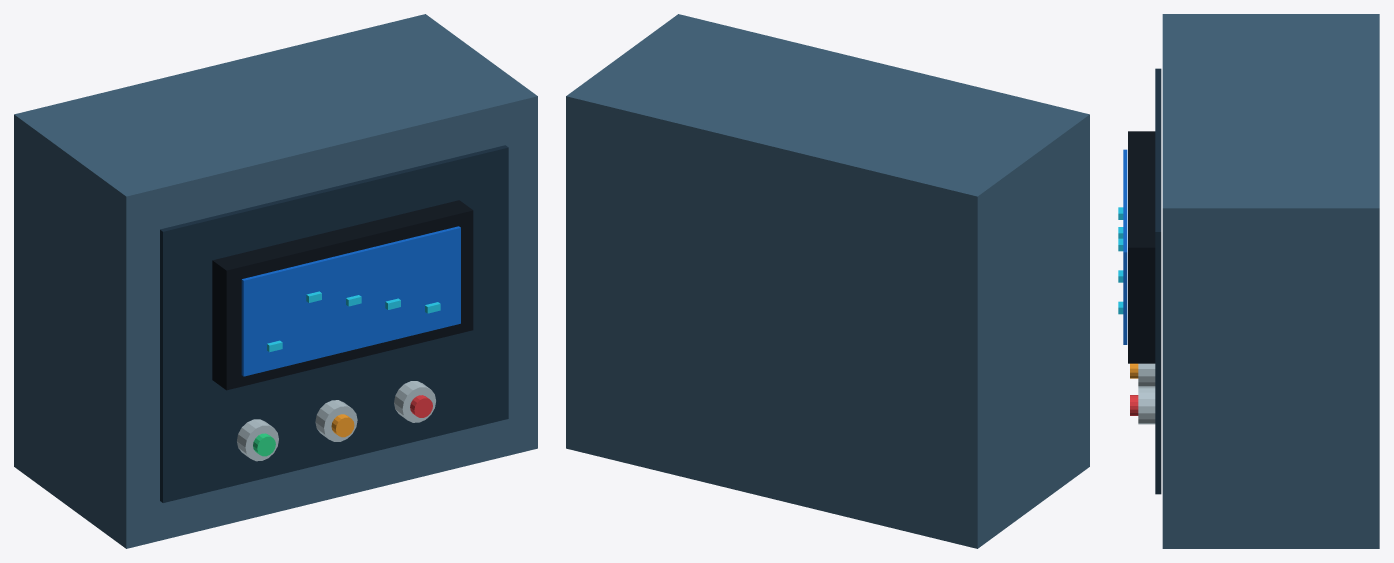
File: 03_L69_CompressorMotorDrive.fbx
3 renders of one model, left to right at view 1: azimuth 30°, elevation 25°; view 2: azimuth 150°, elevation 25°; view 3: azimuth 270°, elevation 25°, orthographic. The views are drawn at different scales.
Parts seen in each view (by area): view 1: CompressorMotorDrive; view 2: CompressorMotorDrive; view 3: CompressorMotorDrive.
Boxes of the visible parts, x1,y1,x2,y2 form: CompressorMotorDrive: (14,14,537,548); CompressorMotorDrive: (566,14,1089,548); CompressorMotorDrive: (1118,14,1379,548).
Bounding box in the file's own units: 110 × 90 × 62.6.
